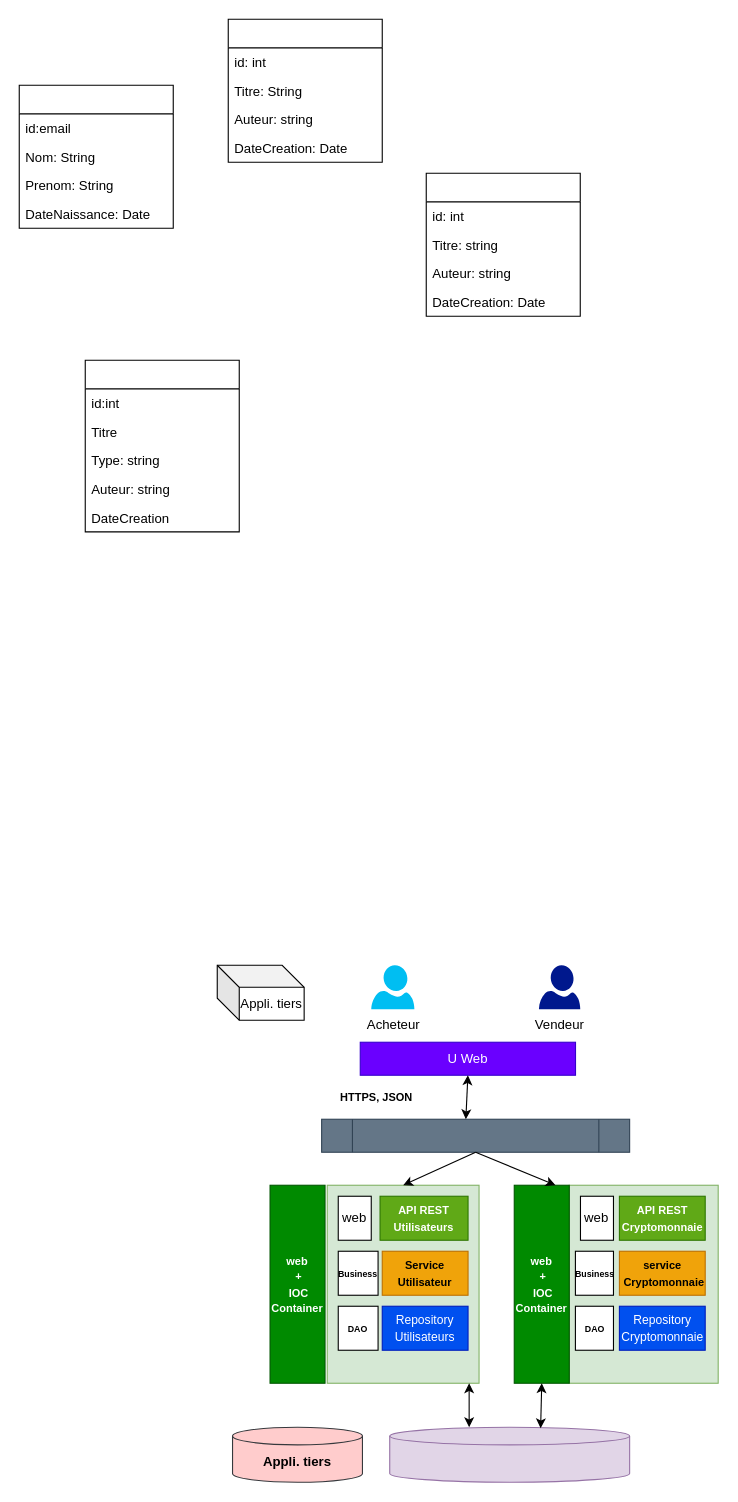
Some shapes in this 738 by 1502 pixel diagram are drawn without their labels. Each missing label, with the box of its shape:
Articles: (425, 172, 580, 316)
Commentaires: (227, 18, 382, 162)
Data Repository: (389, 1426, 630, 1482)
Documents: (84, 359, 239, 532)
GATEWAY: (321, 1118, 630, 1152)
Utilisateur: (18, 84, 173, 228)
